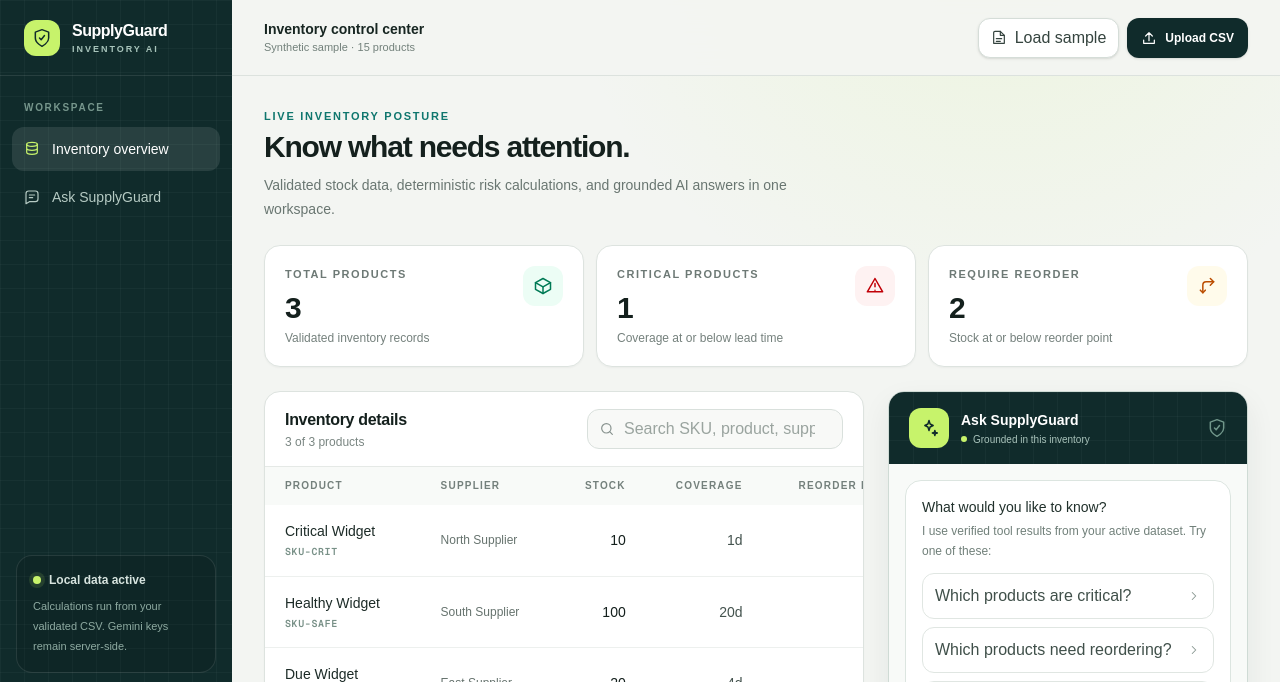
Test: InventoryDashboard › warns when the provider reports an incomplete answer
Step 1. Click the button "Which products are critical?" → {"x": 1068, "y": 596}, box [922,573,1214,619]
(page scrolled)
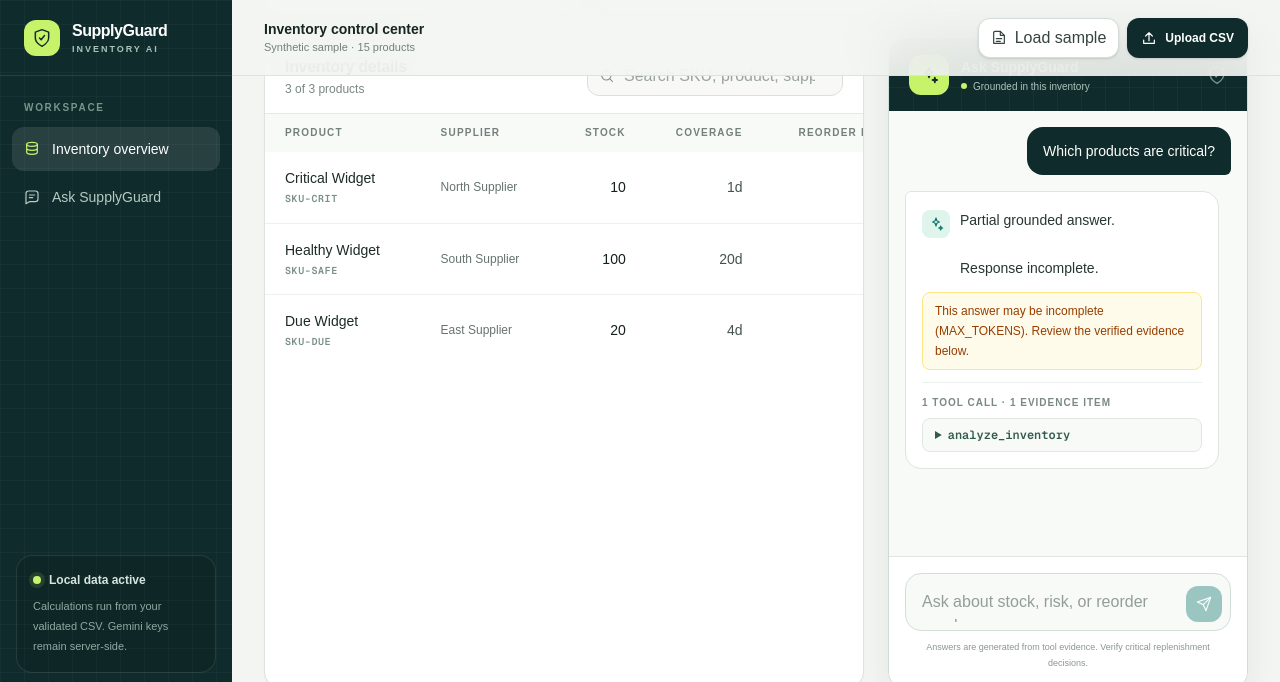
Result: the text "This answer may be incomplete (MAX_TOKENS)" is shown at [922,292,1202,370]
Result: the heading "analyze_inventory" is shown at [948,427,1070,443]
